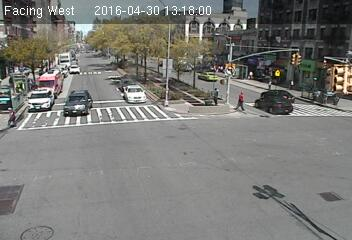neg: (255, 172, 280, 205), (120, 83, 144, 115), (155, 80, 179, 112), (271, 88, 293, 118), (205, 139, 227, 168), (92, 166, 113, 195), (306, 180, 327, 208), (33, 79, 52, 105), (72, 88, 90, 112), (71, 39, 89, 63), (37, 174, 54, 198), (322, 58, 339, 80), (165, 146, 181, 168), (287, 51, 302, 71), (142, 56, 156, 75), (110, 26, 124, 45)
pos: (3, 102, 21, 127), (233, 86, 250, 109), (209, 85, 223, 105)
